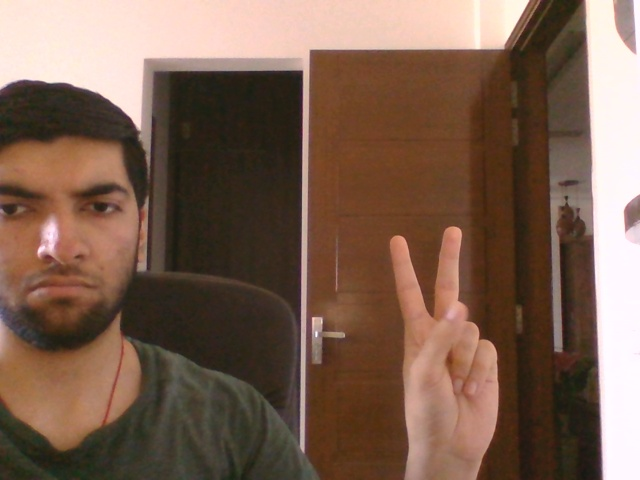LetterK: (389, 225, 500, 466)
